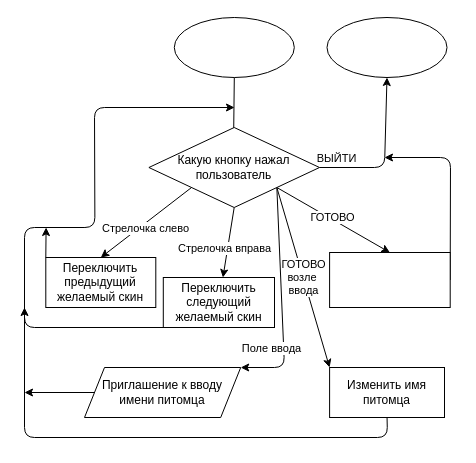
Some shapes in this 476 by 463 pixel diagram are drawn without their labels. Each missing label, with the box of its shape:
Вход в сцену персонализации: (173, 16, 294, 78)
Выбрать новый скин как основной: (329, 252, 450, 308)
Выход в игровую сцену: (326, 16, 447, 78)
